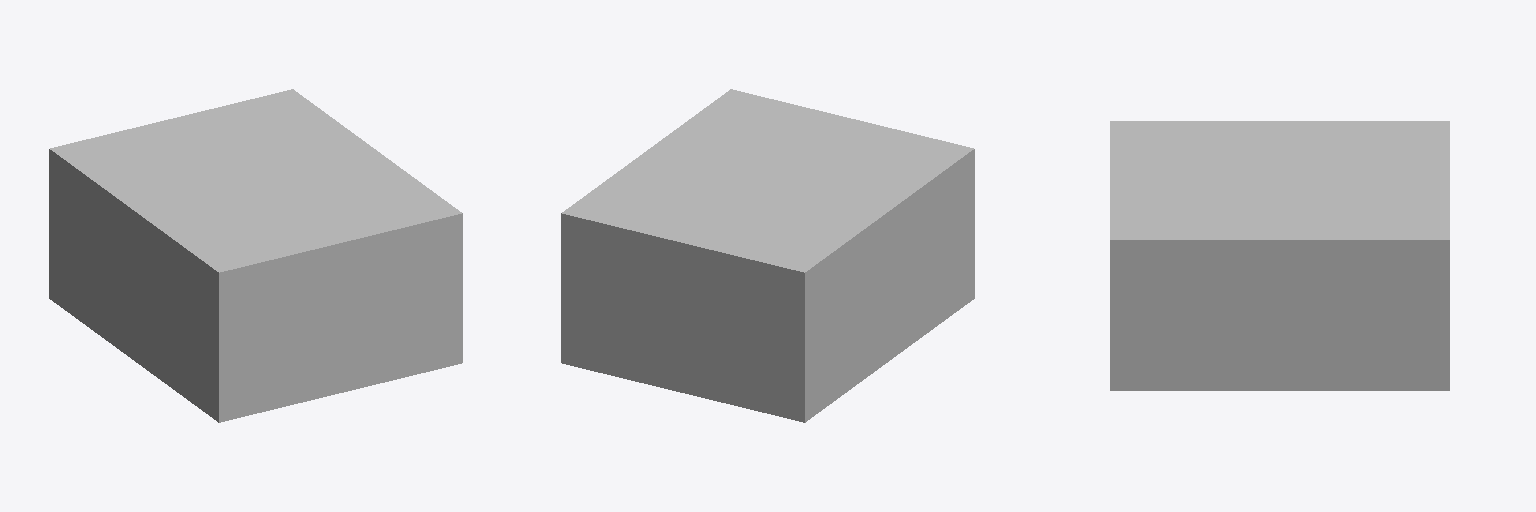
Rendered from pantry.obj.
3 renders of one model, left to right at view 1: azimuth 30°, elevation 25°; view 2: azimuth 150°, elevation 25°; view 3: azimuth 270°, elevation 25°, orthographic.
Visible parts, largest first — view 1: obj_0; view 2: obj_0; view 3: obj_0.
Boxes of the visible parts, <box> form: obj_0: <box>49,89,462,422</box>; obj_0: <box>561,89,974,422</box>; obj_0: <box>1110,121,1449,390</box>.
Size of the model in its own units: 34 by 20 by 41.